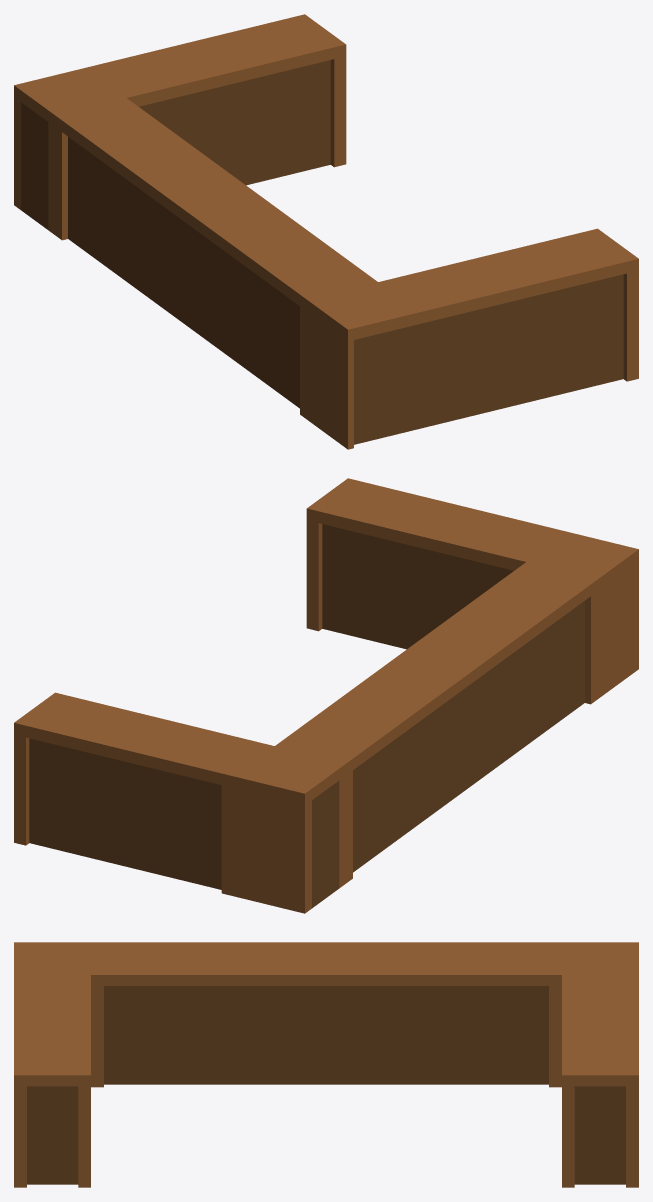
Rendered from Till.fbx.
3 renders of one model, top to bottom at view 1: azimuth 30°, elevation 25°; view 2: azimuth 150°, elevation 25°; view 3: azimuth 270°, elevation 25°, orthographic. The views are drawn at different scales.
Parts seen in each view (by area): view 1: SM_Till; view 2: SM_Till; view 3: SM_Till.
Part boxes in pixels (x1=…): SM_Till: x1=14, y1=14, x2=638, y2=449; SM_Till: x1=14, y1=478, x2=638, y2=913; SM_Till: x1=14, y1=942, x2=638, y2=1187.
Size of the model in its own units: 281 by 111 by 560.
